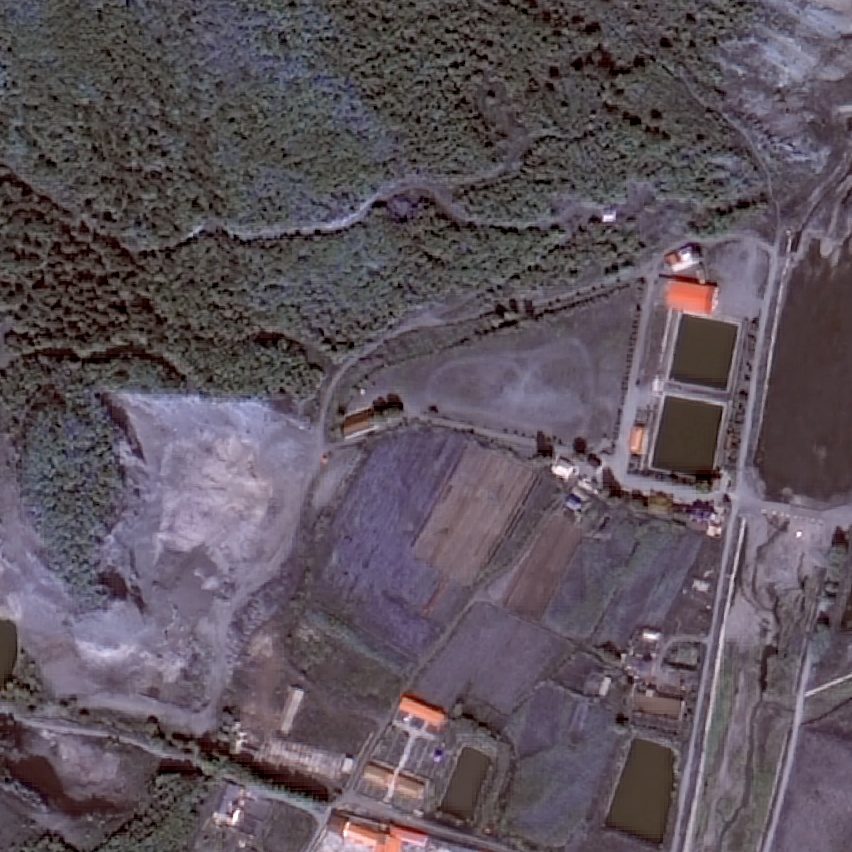slope: (0, 384, 315, 731)
